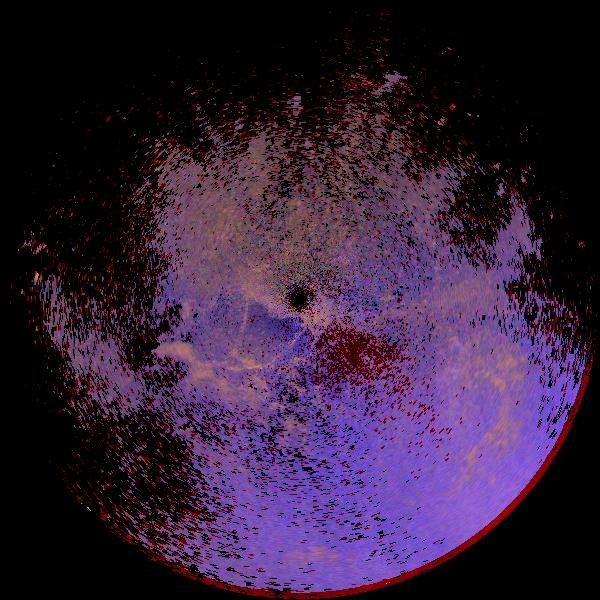roost: (137, 332, 209, 404)
